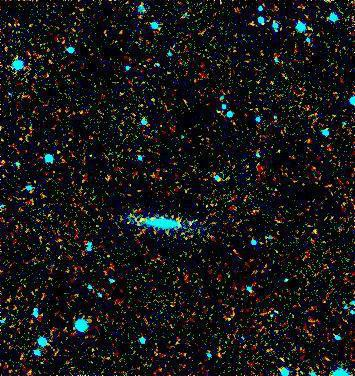star: (128, 207, 158, 237)
